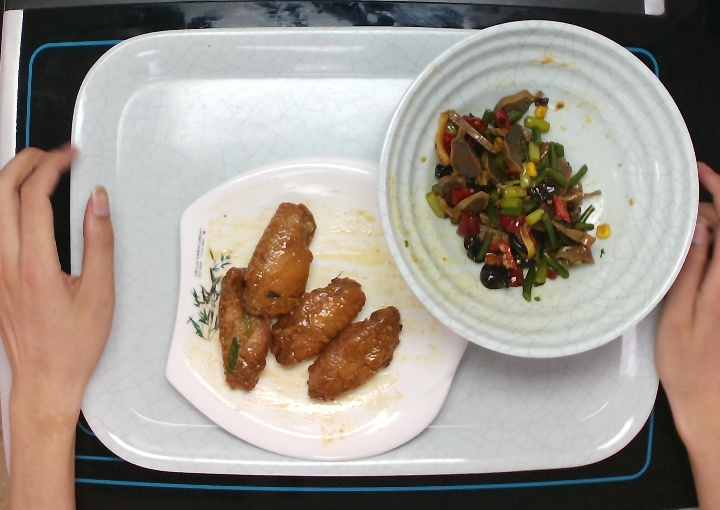JYsf-Da_Tang_Wan: (376, 16, 704, 361)
JYsf-Mian_Pan: (161, 152, 474, 464)
